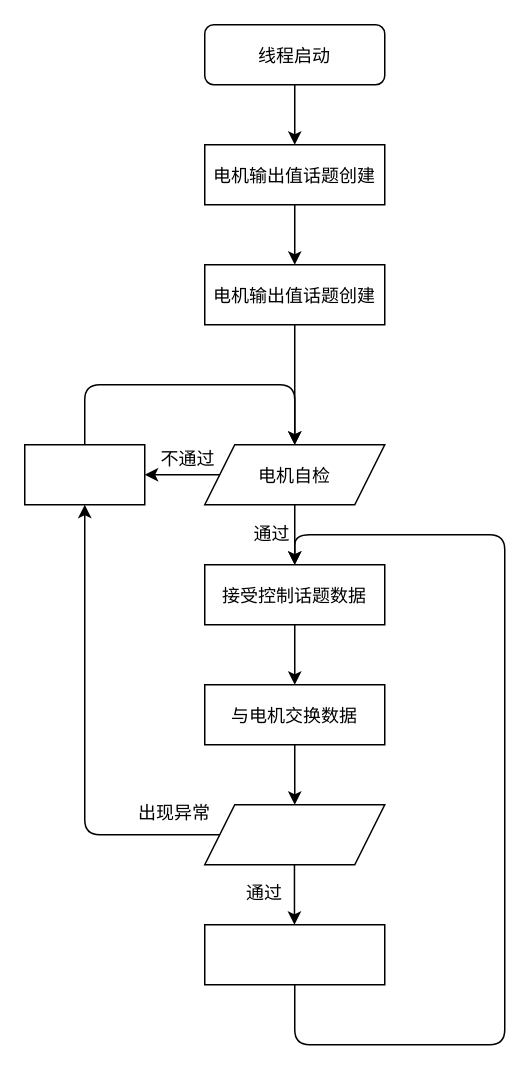
Image size: 530x1070. Some labels were removed from this diagram. The shapes that lost their labels are listed below. From the top down, each one's box as (x1, y1, x2, y2) in pixels, then its label:
(23, 443, 145, 505): 异常处理
(203, 803, 385, 865): 检测电机错误
(203, 923, 385, 985): 发布电机反馈话题
